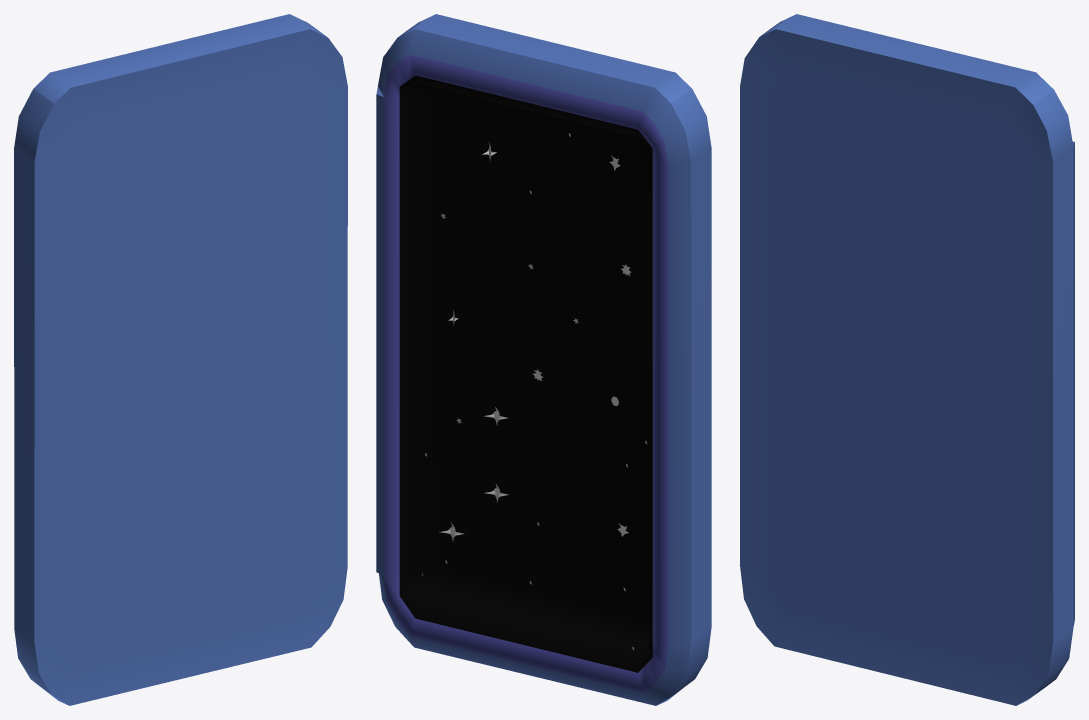
File: portal2.fbx
3 renders of one model, left to right at view 1: azimuth 30°, elevation 25°; view 2: azimuth 150°, elevation 25°; view 3: azimuth 330°, elevation 25°, orthographic.
Visible parts, largest first — view 1: pasted__pasted__pasted__pDisc2; view 2: pasted__pasted__pasted__pDisc2; view 3: pasted__pasted__pasted__pDisc2.
Part boxes in pixels (x1,y1,x2,y2): pasted__pasted__pasted__pDisc2: (14, 14, 347, 705); pasted__pasted__pasted__pDisc2: (376, 14, 711, 705); pasted__pasted__pasted__pDisc2: (740, 14, 1074, 705).
Size of the model in its own units: 25.98 by 49.31 by 4.21.
